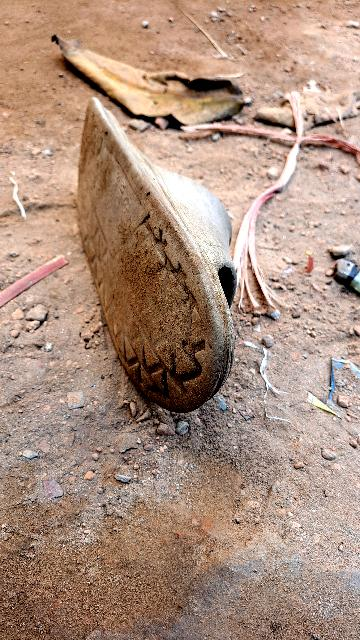sandal: (0, 98, 275, 433)
